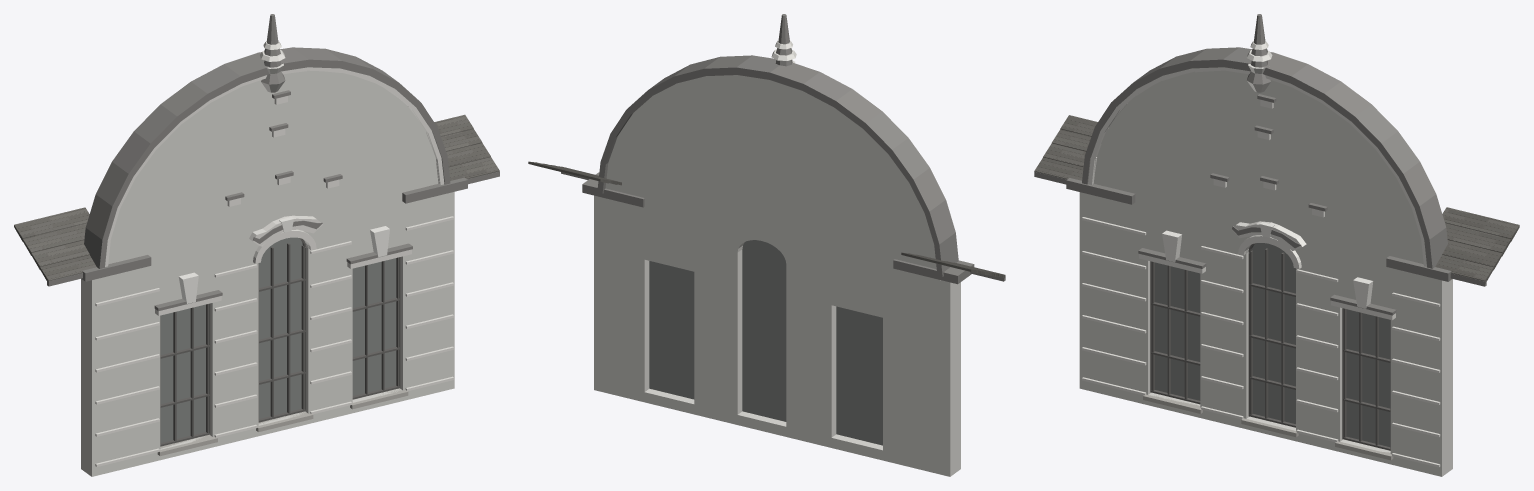
The model's file is western-school-gable-far.glb.
3 renders of one model, left to right at view 1: azimuth 30°, elevation 25°; view 2: azimuth 150°, elevation 25°; view 3: azimuth 330°, elevation 25°, orthographic.
Parts seen in each view (by area): view 1: 西童公学北四川路校舍半圆山墙与三联窗; view 2: 西童公学北四川路校舍半圆山墙与三联窗; view 3: 西童公学北四川路校舍半圆山墙与三联窗.
Boxes of the visible parts, x1,y1,x2,y2 form: 西童公学北四川路校舍半圆山墙与三联窗: (14,14,499,476); 西童公学北四川路校舍半圆山墙与三联窗: (528,14,1005,476); 西童公学北四川路校舍半圆山墙与三联窗: (1034,14,1519,476).
Bounding box in the file's own units: 10 × 8.86 × 1.56.
Materials: 8 (1 with a texture image).
